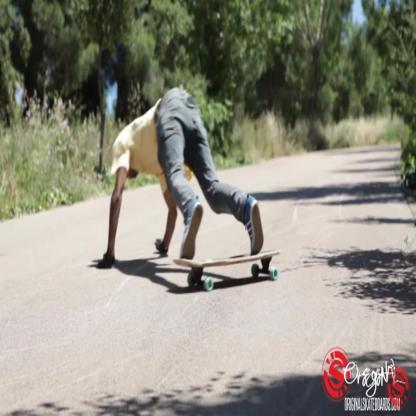Fall_Down: (96, 85, 266, 273)
